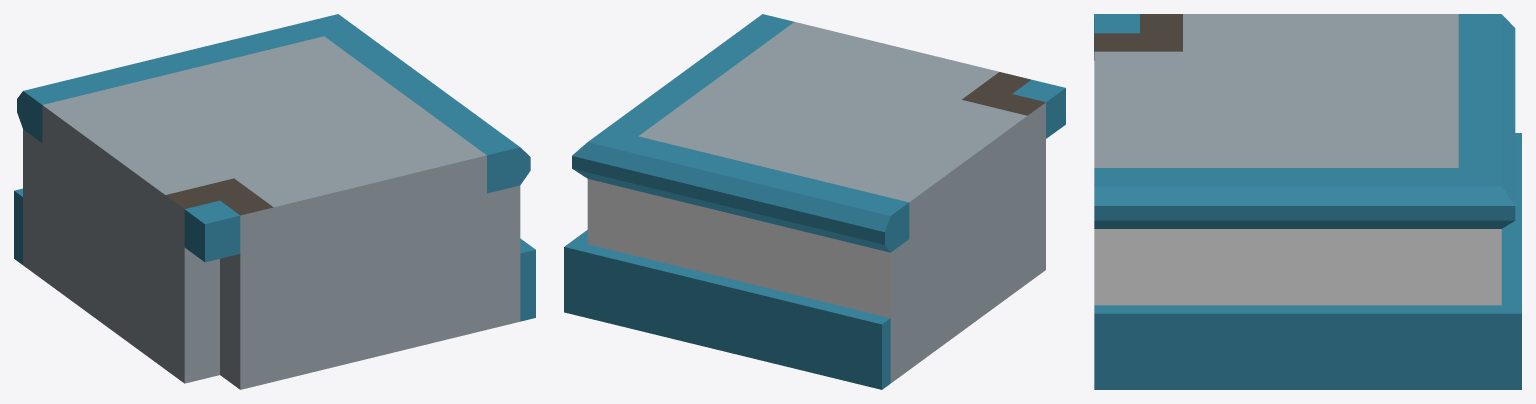
The model's file is 3D_workstation_counter_corner.fbx.
3 renders of one model, left to right at view 1: azimuth 30°, elevation 25°; view 2: azimuth 150°, elevation 25°; view 3: azimuth 270°, elevation 25°, orthographic. The views are drawn at different scales.
Visible parts, largest first — view 1: 3D_workstation_counter_table.004; view 2: 3D_workstation_counter_table.004; view 3: 3D_workstation_counter_table.004.
Boxes of the visible parts, x1,y1,x2,y2 form: 3D_workstation_counter_table.004: (14,14,535,389); 3D_workstation_counter_table.004: (564,14,1065,389); 3D_workstation_counter_table.004: (1094,14,1521,389).
Bounding box in the file's own units: 1.16 × 0.5863 × 1.16.
